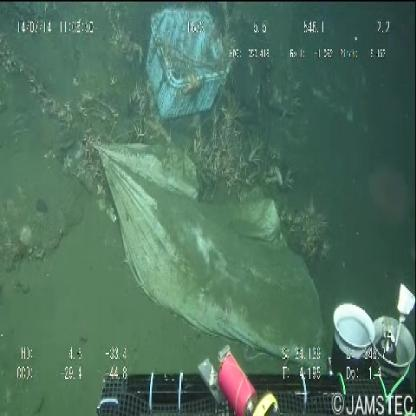Rov: (77, 260, 416, 416)
Rác: (140, 2, 240, 131)
